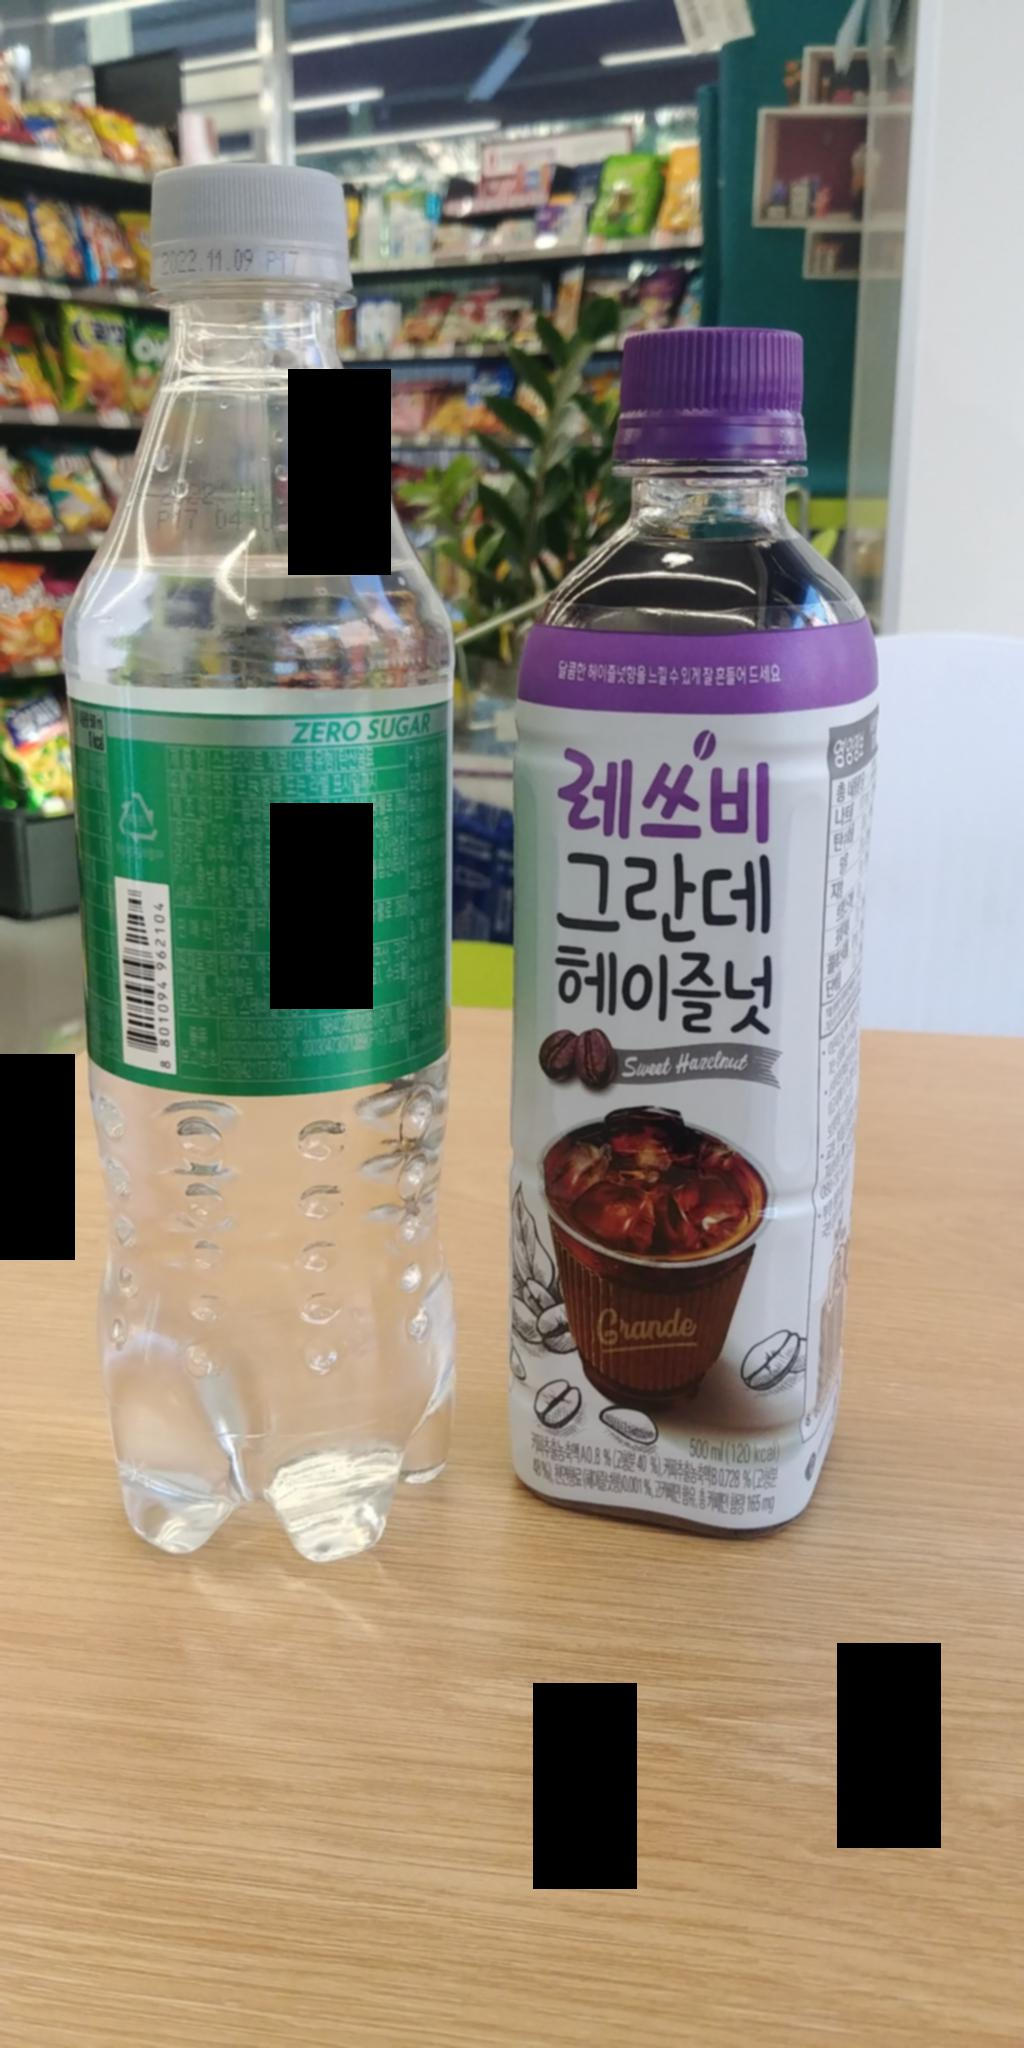letsbe_grande_hazelnut: (465, 300, 897, 1586)
sprite_zero: (65, 148, 473, 1607)
